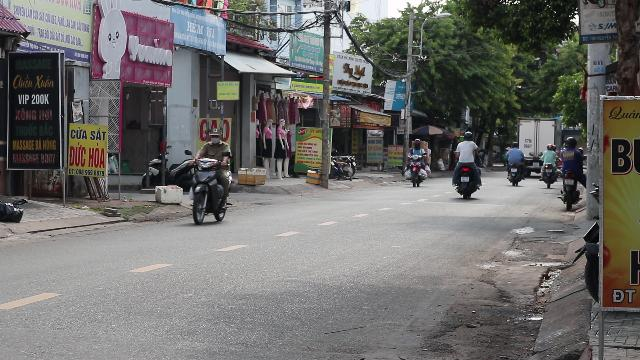motorcyclist: (188, 127, 234, 225)
nohelmet: (208, 127, 222, 143)
